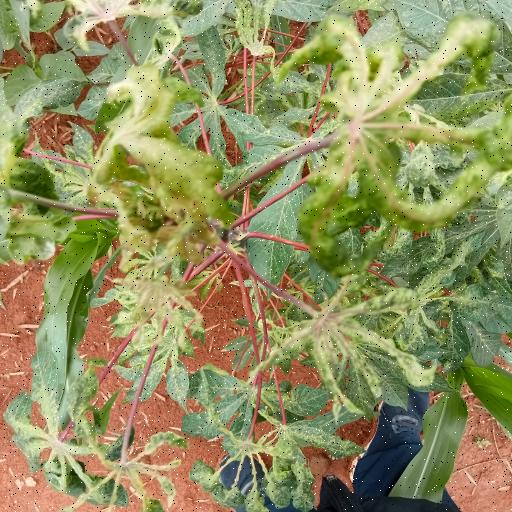Cassava_Mosaic: (271, 268, 449, 410), (162, 32, 296, 155), (196, 415, 342, 509)
